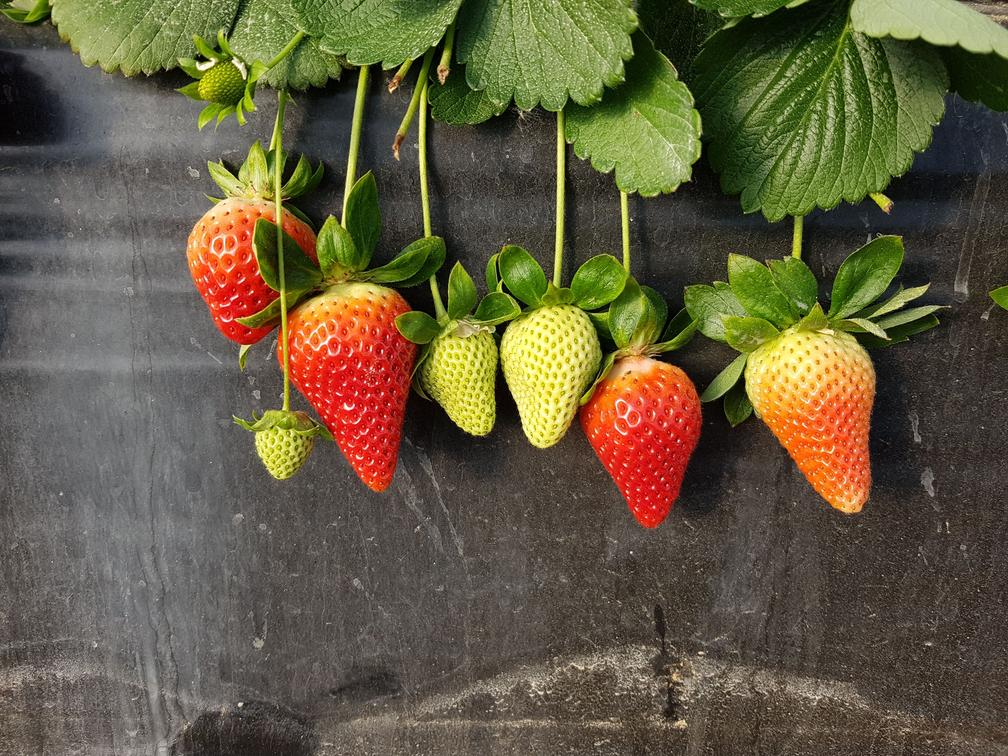Ripe: (284, 291, 425, 487), (748, 335, 888, 518), (589, 360, 710, 529), (181, 189, 303, 345)
Unripe: (503, 295, 590, 445), (429, 324, 502, 442), (254, 418, 323, 483), (191, 61, 250, 100)
